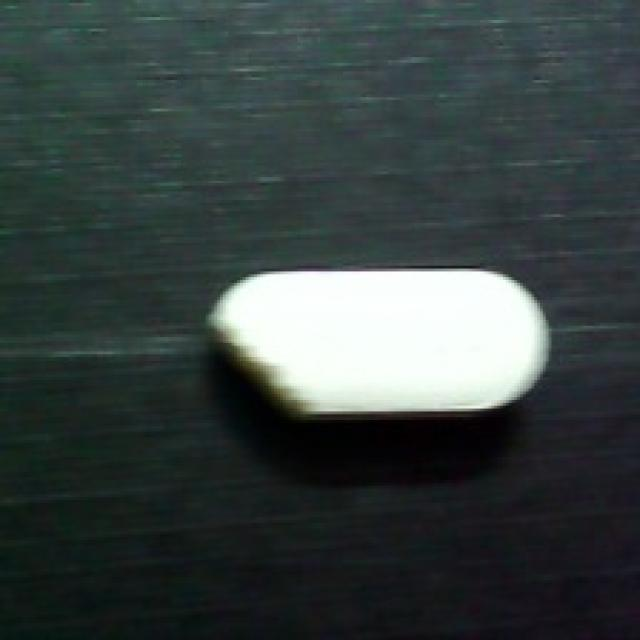defected: (203, 254, 554, 426)
